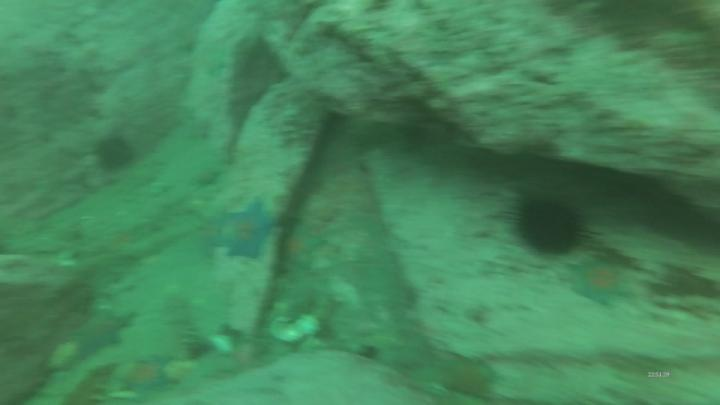echinus: (516, 197, 581, 254), (95, 141, 134, 168)
starfish: (214, 200, 272, 259), (570, 261, 633, 307), (73, 312, 130, 356), (441, 361, 497, 398), (283, 228, 322, 268), (131, 361, 169, 394)
